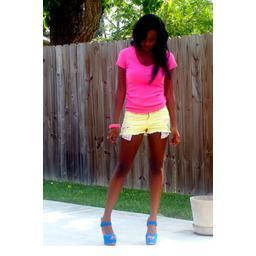Tshirt: (114, 44, 178, 110)
short: (121, 110, 172, 140)
